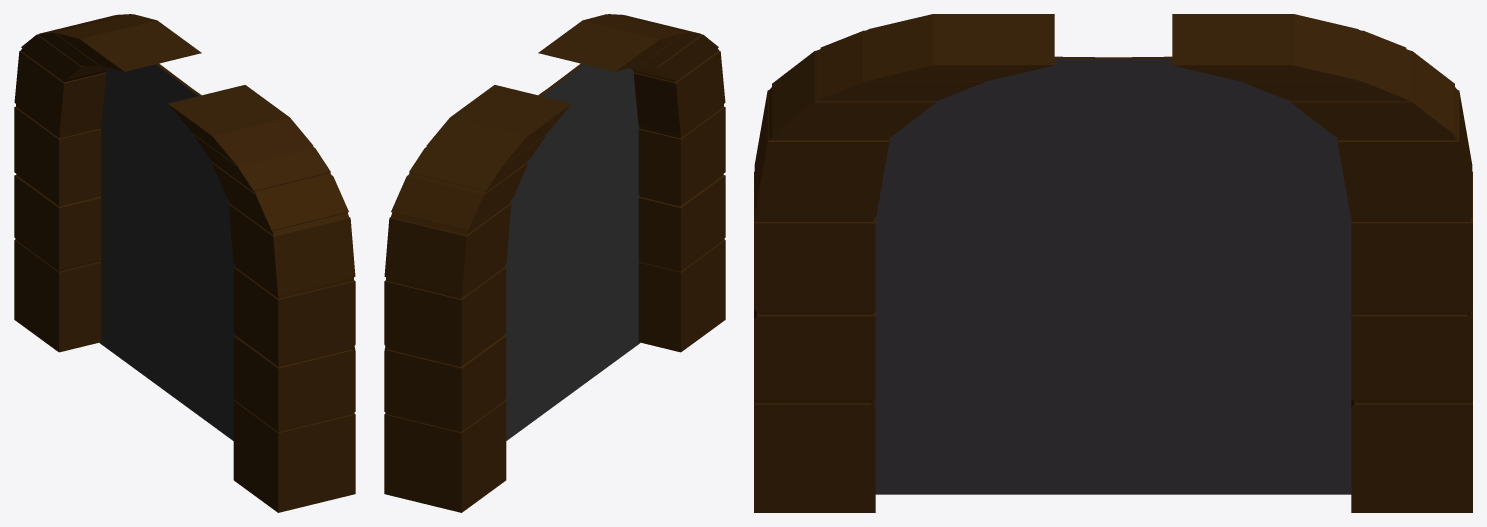
The model's file is newPortal.fbx.
3 renders of one model, left to right at view 1: azimuth 30°, elevation 25°; view 2: azimuth 150°, elevation 25°; view 3: azimuth 270°, elevation 25°, orthographic. The views are drawn at different scales.
Parts seen in each view (by area): view 1: Cube; view 2: Cube; view 3: Cube.
Boxes of the visible parts, <box> form: Cube: <box>14,14,355,512</box>; Cube: <box>384,14,725,512</box>; Cube: <box>754,14,1472,512</box>.
Size of the model in its own units: 200 by 817 by 1181.
